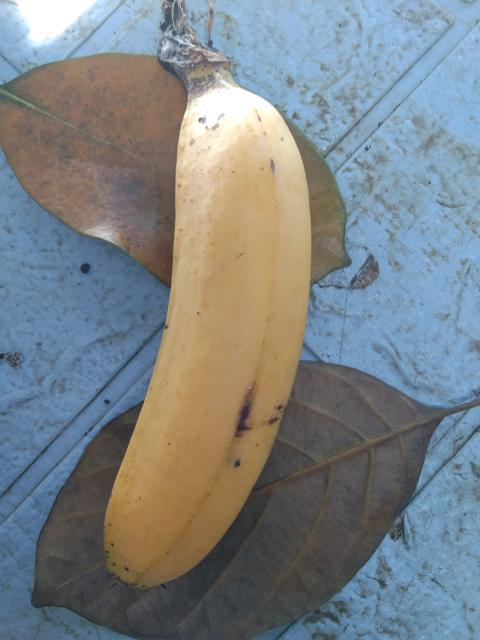freshripe: (70, 77, 310, 605)
